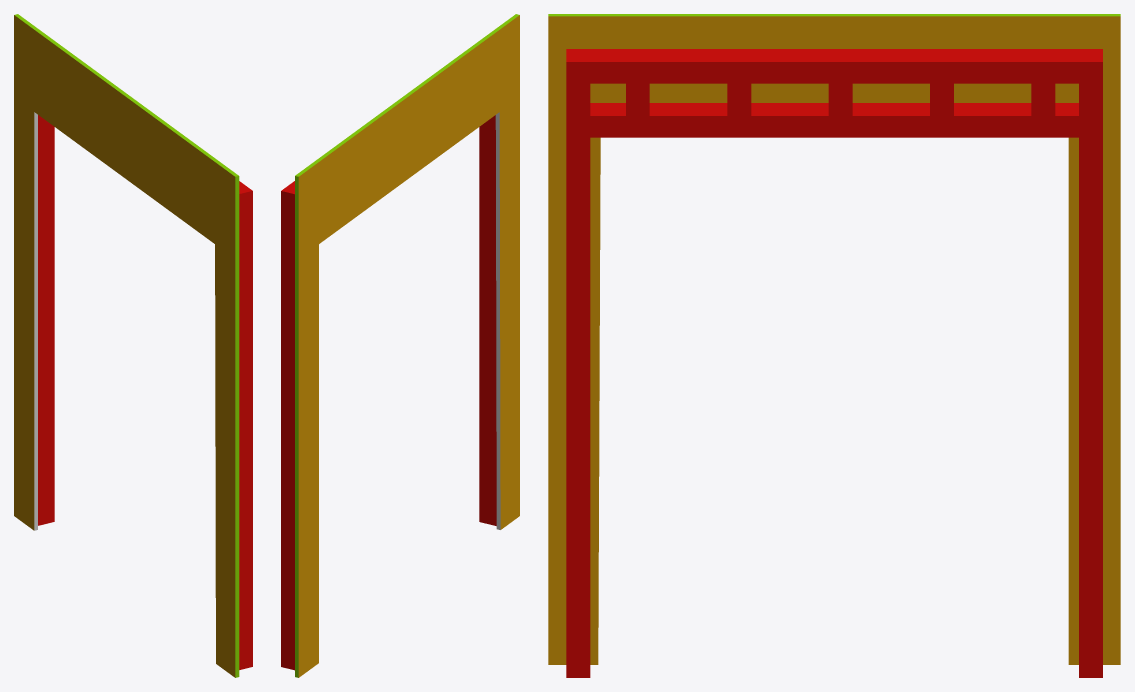
Rendered from Doorway.fbx.
3 views of the same model, side by side, from view 1: azimuth 30°, elevation 25°; view 2: azimuth 150°, elevation 25°; view 3: azimuth 270°, elevation 25° (orthographic). The views are drawn at different scales.
Visible parts, largest first — view 1: Doorway; view 2: Doorway; view 3: Doorway.
Boxes of the visible parts, bbox=[...] form: Doorway: bbox=[14, 14, 252, 677]; Doorway: bbox=[281, 14, 519, 677]; Doorway: bbox=[548, 14, 1120, 677].
Bounding box in the file's own units: 12.8 × 250 × 200.
